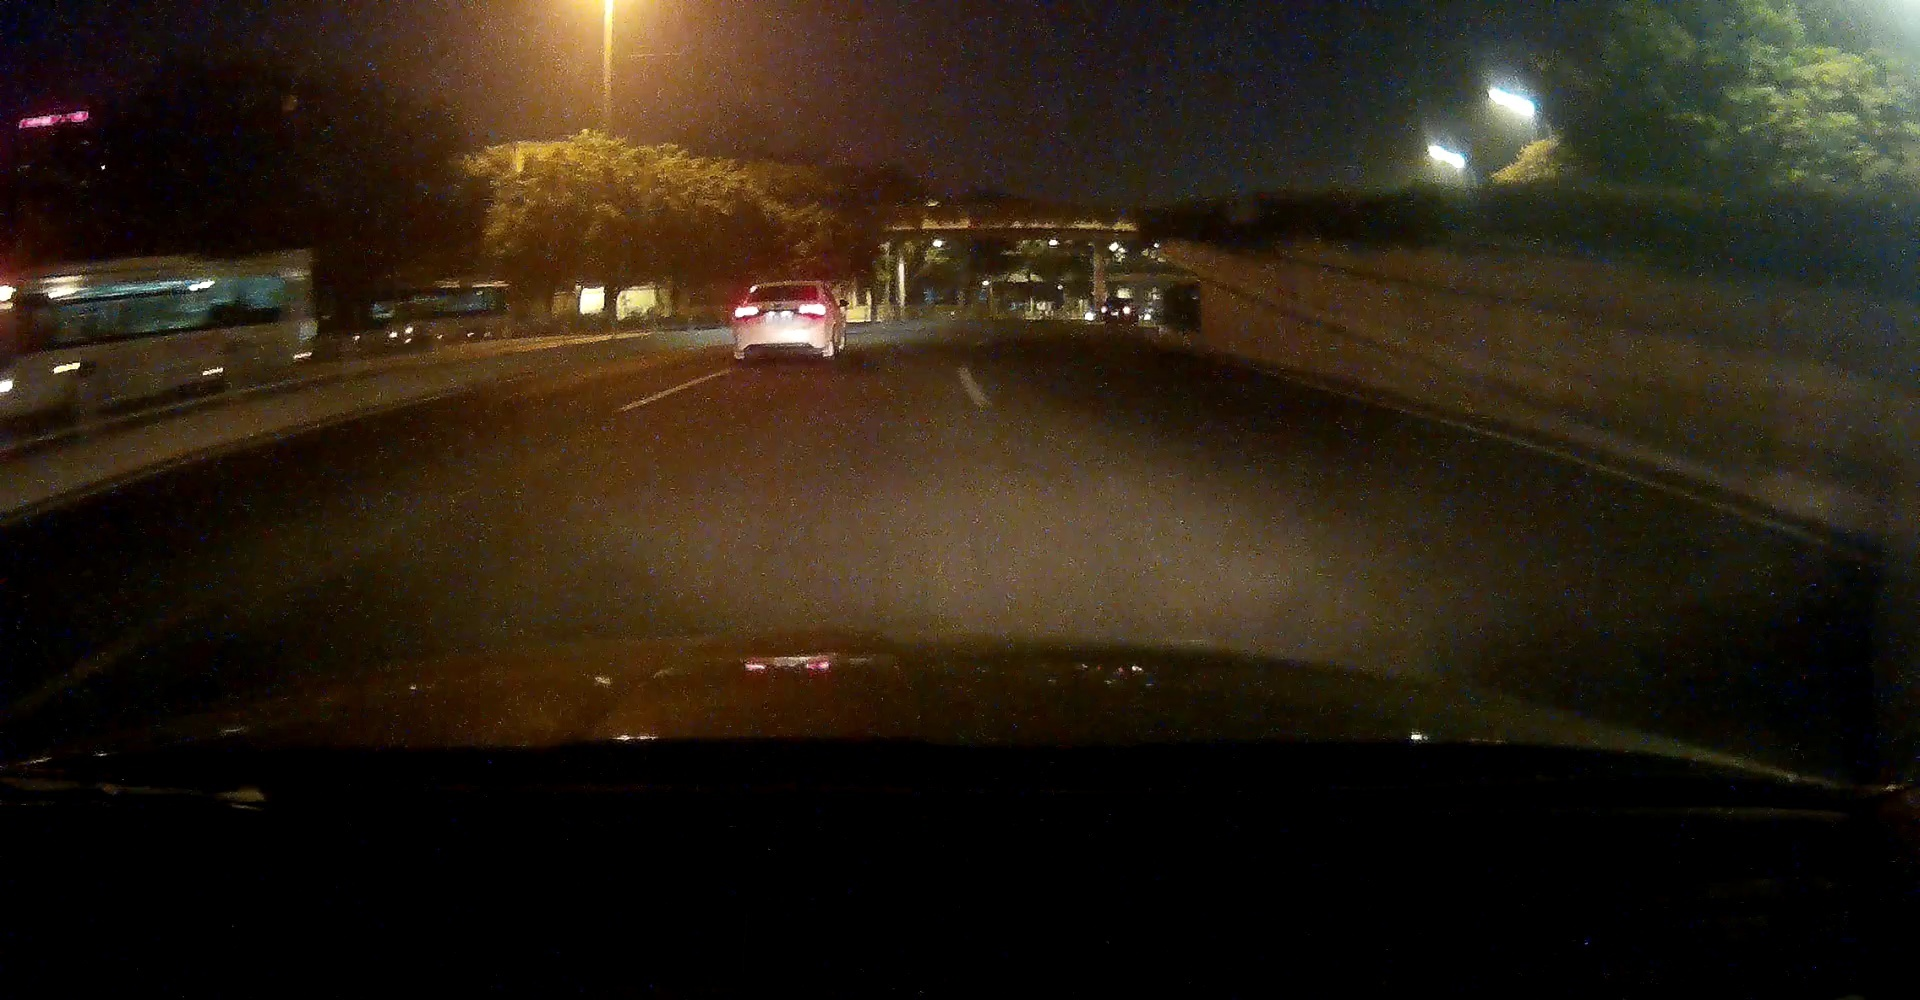L_light: (733, 305, 759, 317)
R_light: (799, 303, 825, 316)
T_light: (780, 286, 794, 287)
night-no: (731, 278, 832, 360)
